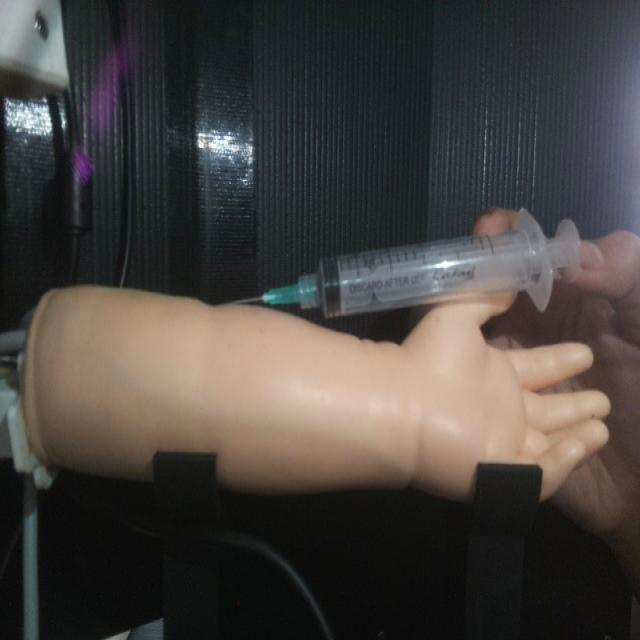Below 15 degrees: (230, 204, 584, 320)
